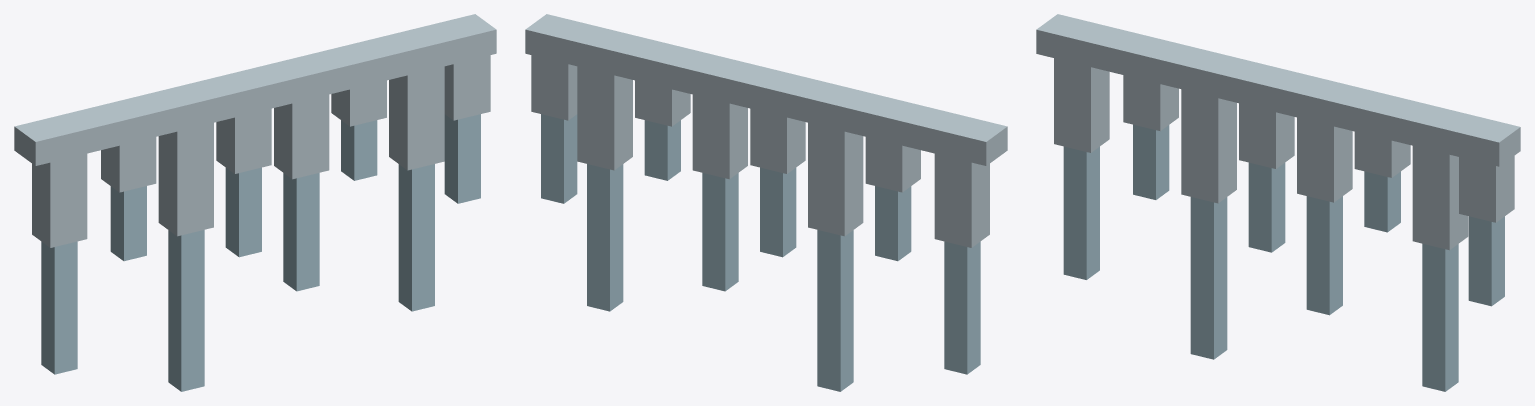
The model's file is ntu-icicles.glb.
The picture shows the model from 3 angles, left to right: view 1: azimuth 30°, elevation 25°; view 2: azimuth 150°, elevation 25°; view 3: azimuth 330°, elevation 25°; orthographic projection.
Visible parts, largest first — view 1: box-prop; view 2: box-prop; view 3: box-prop.
Boxes of the visible parts, bbox=[...] form: box-prop: bbox=[14, 14, 496, 391]; box-prop: bbox=[525, 14, 1007, 391]; box-prop: bbox=[1036, 14, 1520, 391].
Bounding box in the file's own units: 2 × 1.2 × 0.16.
